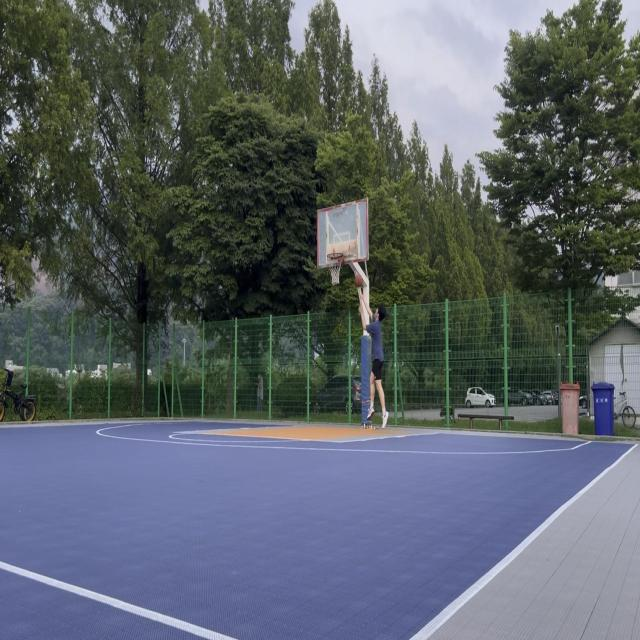basketball: (354, 274, 363, 288)
hoop: (327, 252, 344, 286)
